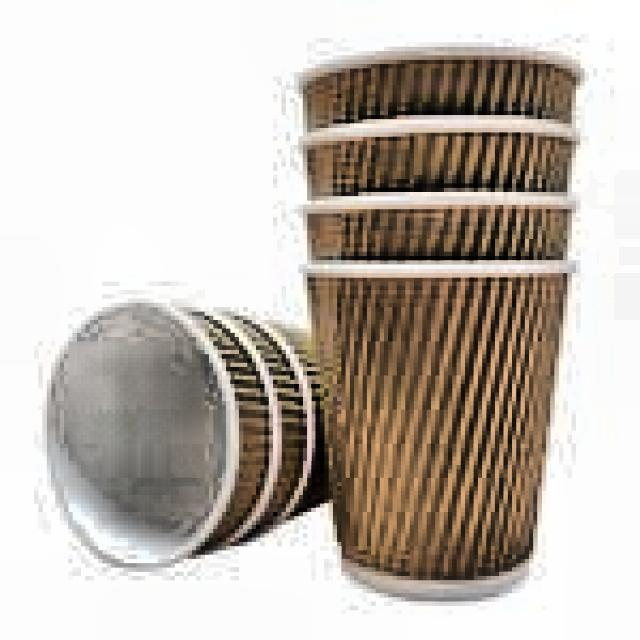Cup: (288, 26, 590, 612), (32, 284, 350, 573)
